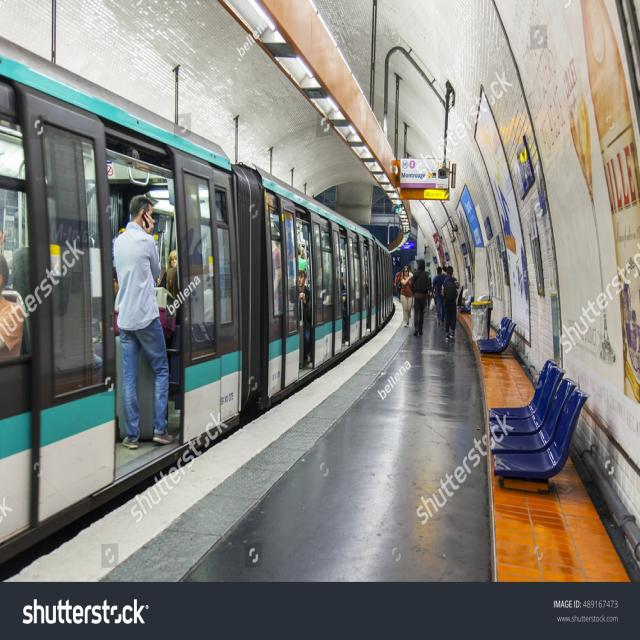body: (113, 194, 175, 449), (157, 248, 236, 344), (306, 237, 374, 313), (0, 230, 26, 359), (289, 270, 313, 369), (410, 258, 431, 337), (442, 265, 460, 342), (400, 265, 414, 328), (432, 266, 446, 326), (271, 239, 282, 293), (293, 247, 306, 284), (341, 274, 347, 313), (425, 271, 431, 310), (394, 267, 401, 296), (441, 264, 448, 284)
